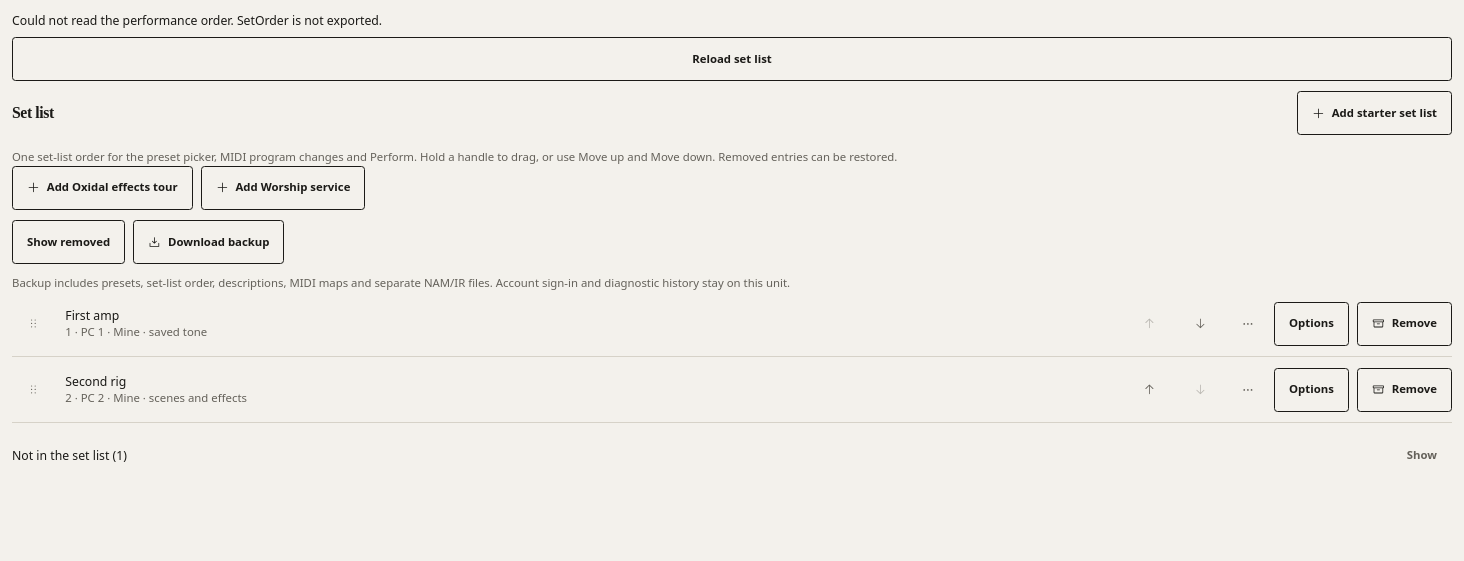
Test case: Add starter set list appends after the existing entries
The width and height of the screenshot is (1464, 561).
Click the button "Add starter set list".
click(1374, 113)  # box top-left (1297, 91), bottom-right (1452, 135)
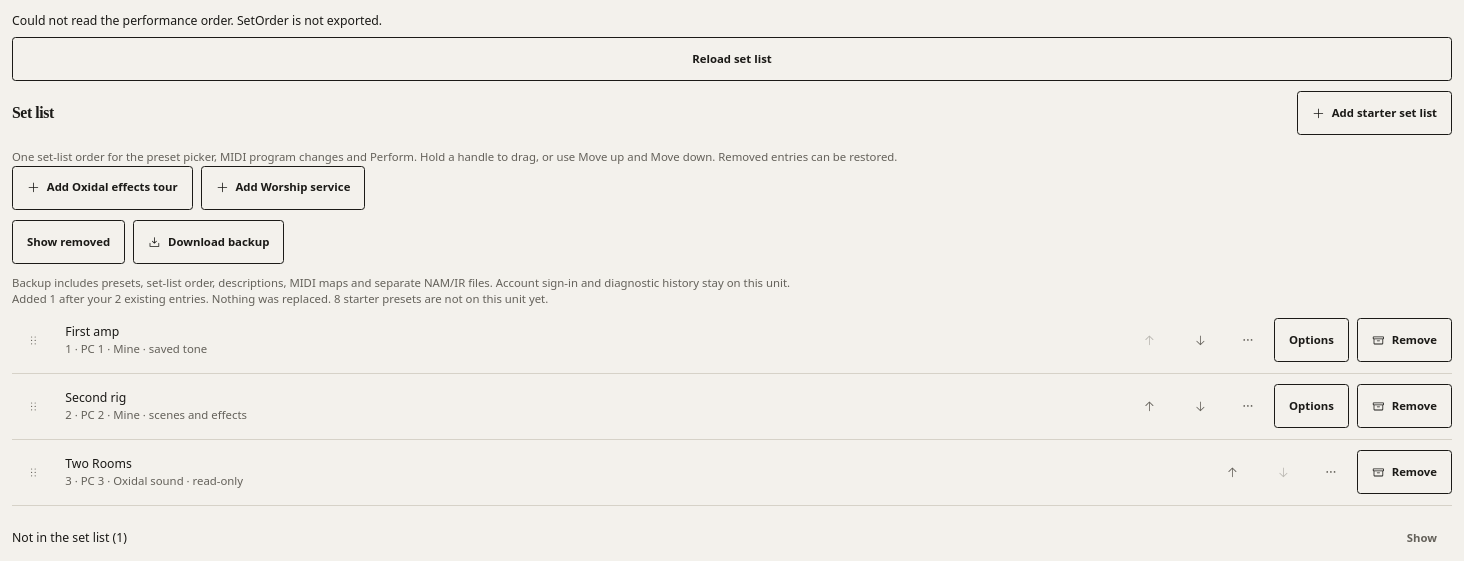
Now the text "Added 1 after your 2 existing entries. Nothing was replaced." is shown, box top-left (12, 291), bottom-right (548, 306)
